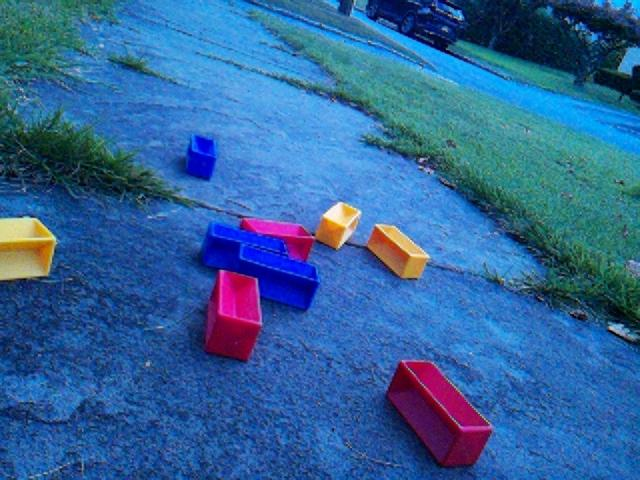blue: (237, 243, 320, 310), (201, 219, 289, 271), (184, 132, 218, 181)
red: (385, 357, 494, 469), (203, 268, 264, 363), (240, 216, 316, 263)
yellow: (1, 215, 58, 283), (366, 222, 430, 280), (315, 200, 362, 251)
